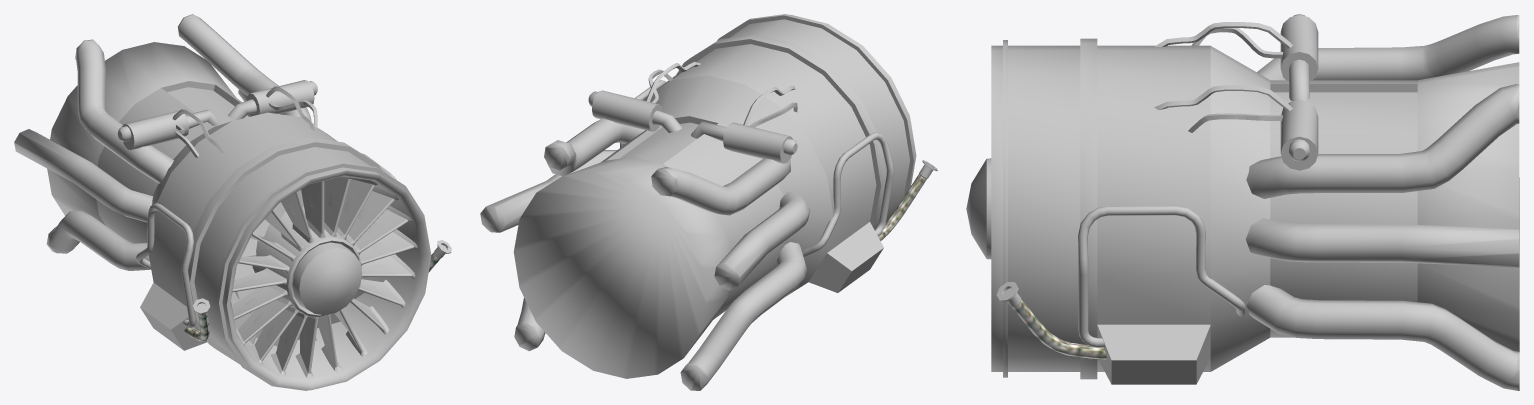
File: Engine_left.fbx
3 views of the same model, side by side, from view 1: azimuth 30°, elevation 25°; view 2: azimuth 150°, elevation 25°; view 3: azimuth 270°, elevation 25° (orthographic). The views are drawn at different scales.
Parts seen in each view (by area): view 1: Pipes_rear; view 2: Pipes_rear; view 3: Pipes_rear.
Boxes of the visible parts, bbox=[...] form: Pipes_rear: bbox=[14, 14, 451, 390]; Pipes_rear: bbox=[480, 14, 937, 390]; Pipes_rear: bbox=[966, 14, 1519, 390].
Size of the model in its own units: 126 by 104 by 169.
